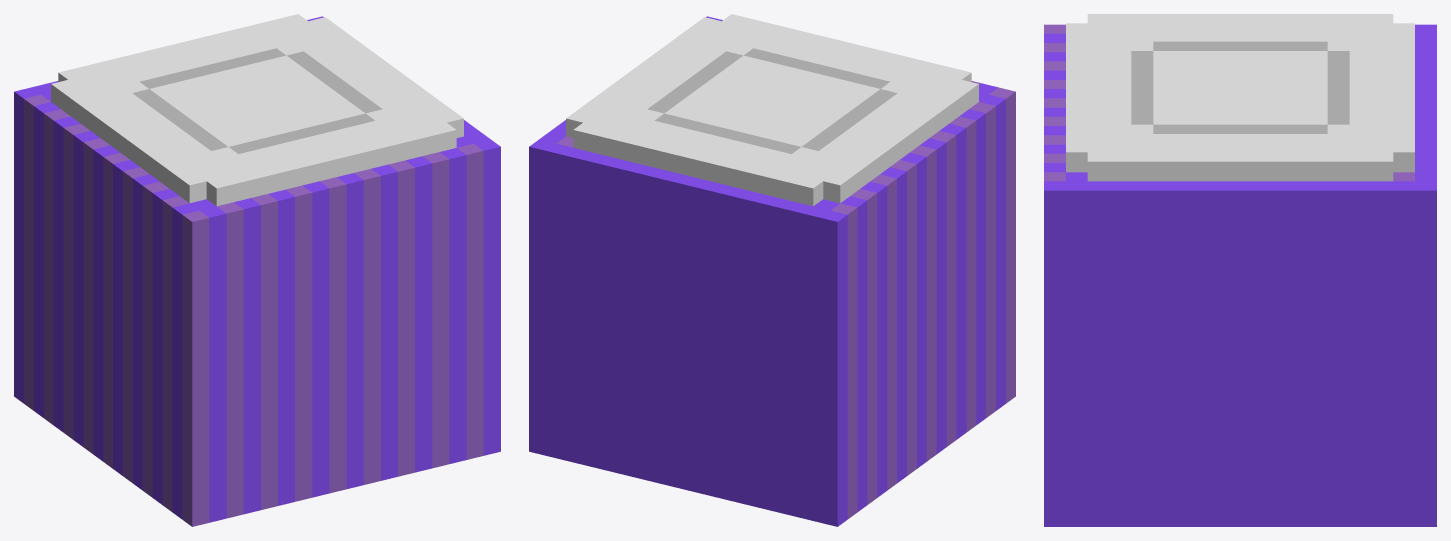
Rendered from botao.obj.
The picture shows the model from 3 angles, left to right: view 1: azimuth 30°, elevation 25°; view 2: azimuth 150°, elevation 25°; view 3: azimuth 270°, elevation 25°; orthographic projection. The views are drawn at different scales.
Size of the model in its own units: 1.8 by 1.8 by 1.8.
Materials: 1 (1 with a texture image).
